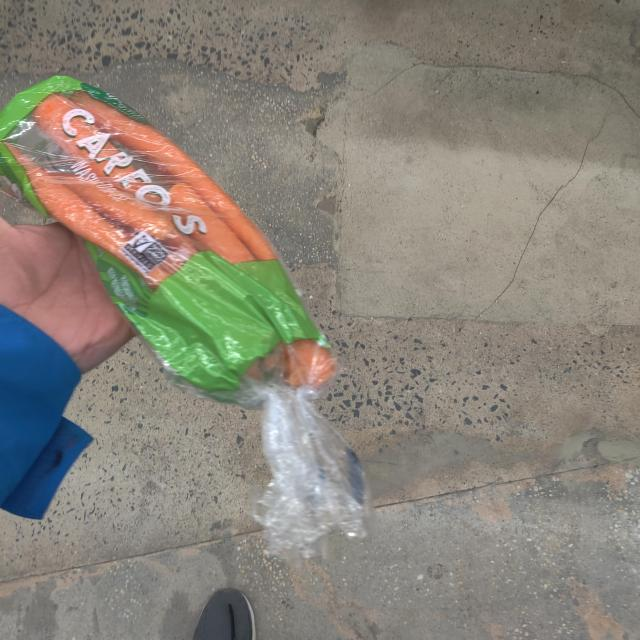Carrots: (0, 75, 368, 544)
